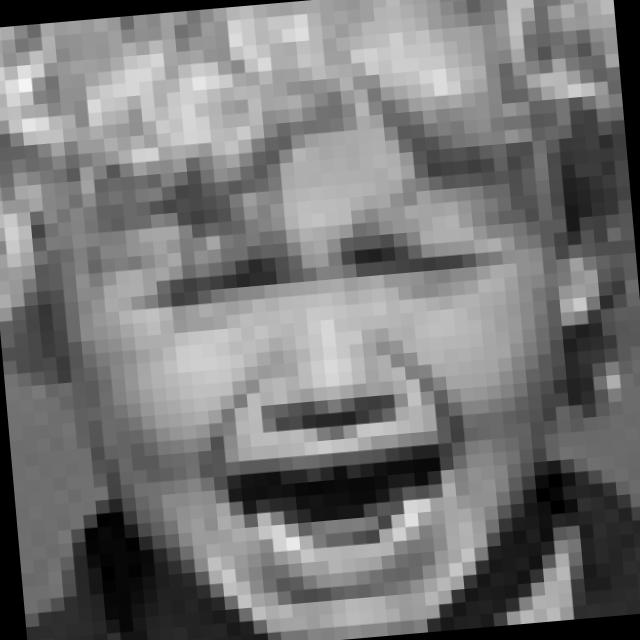sad: (105, 182, 540, 624)
